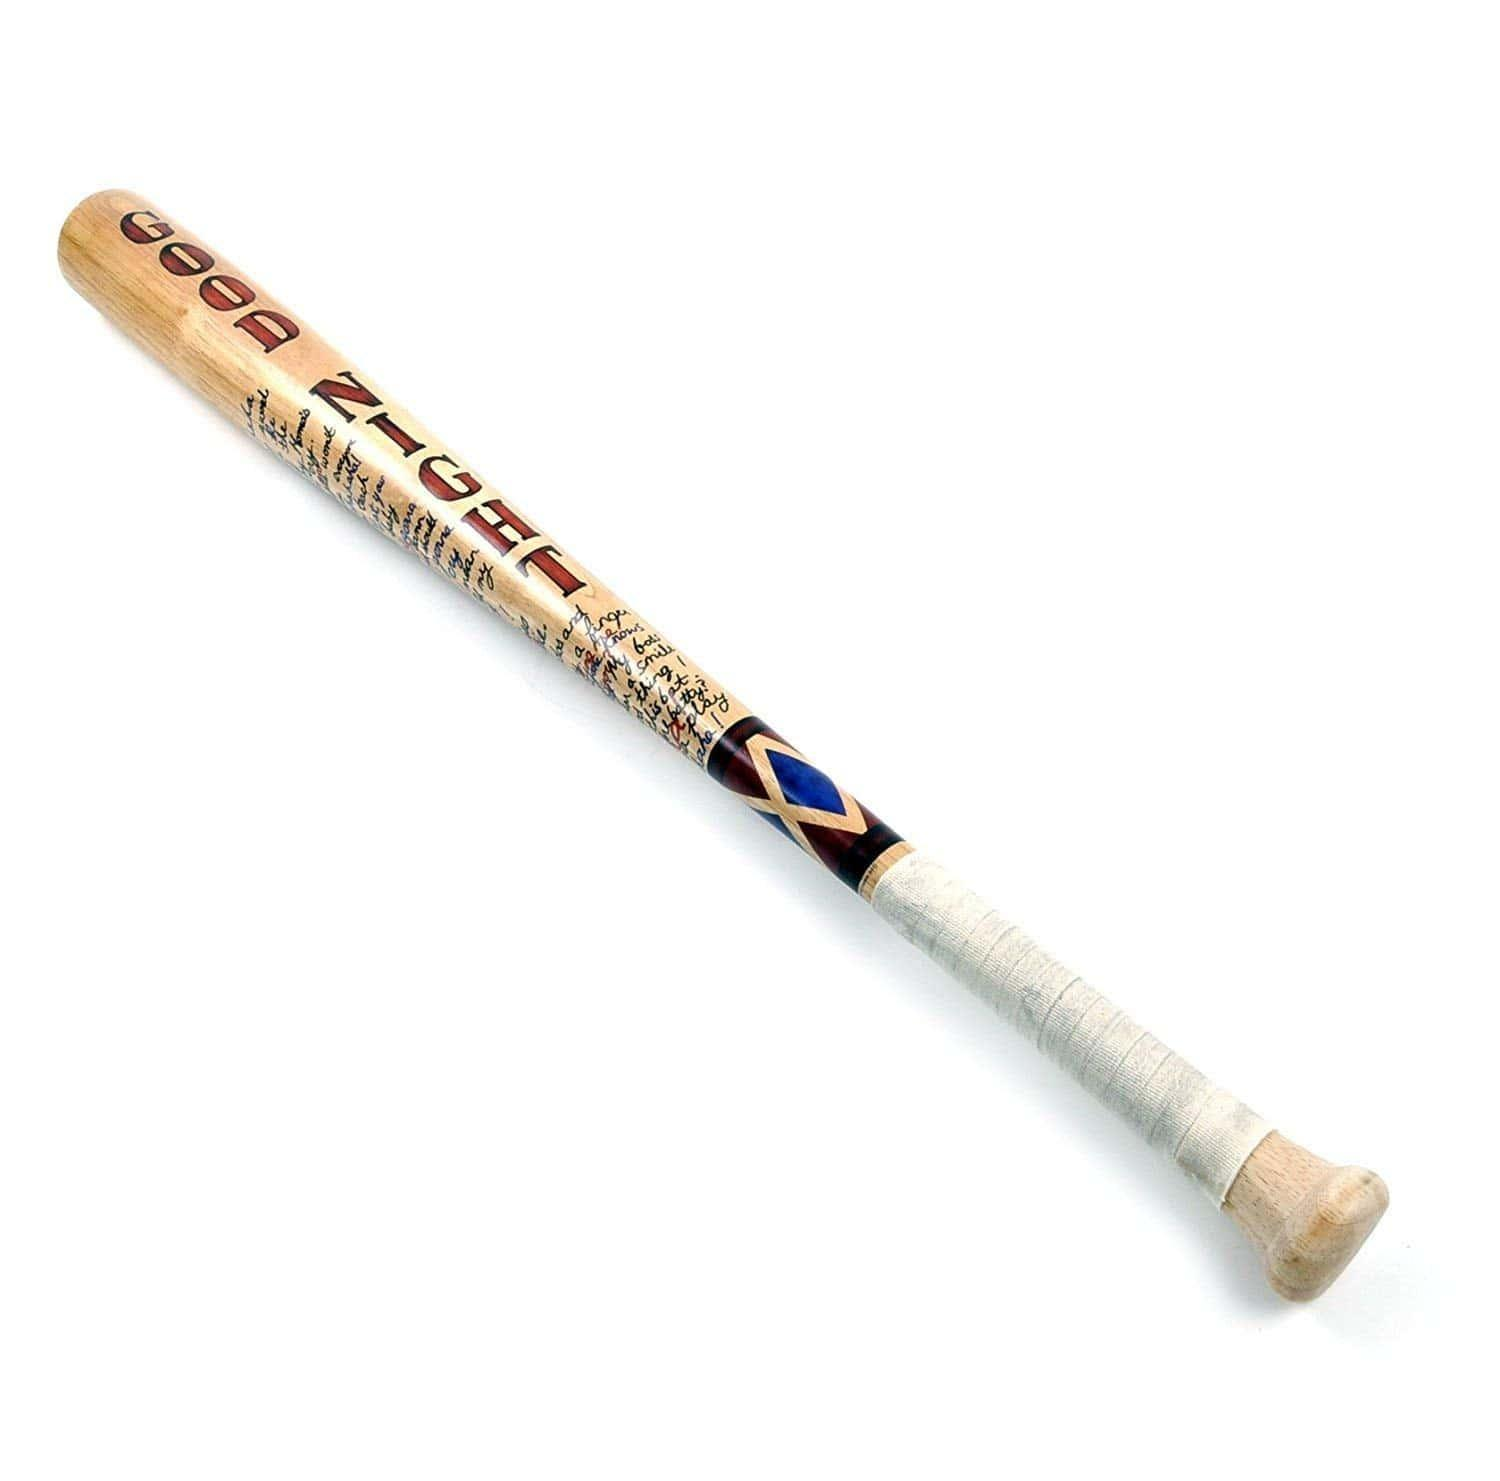Baseball-Bat: (76, 146, 1427, 1326)
